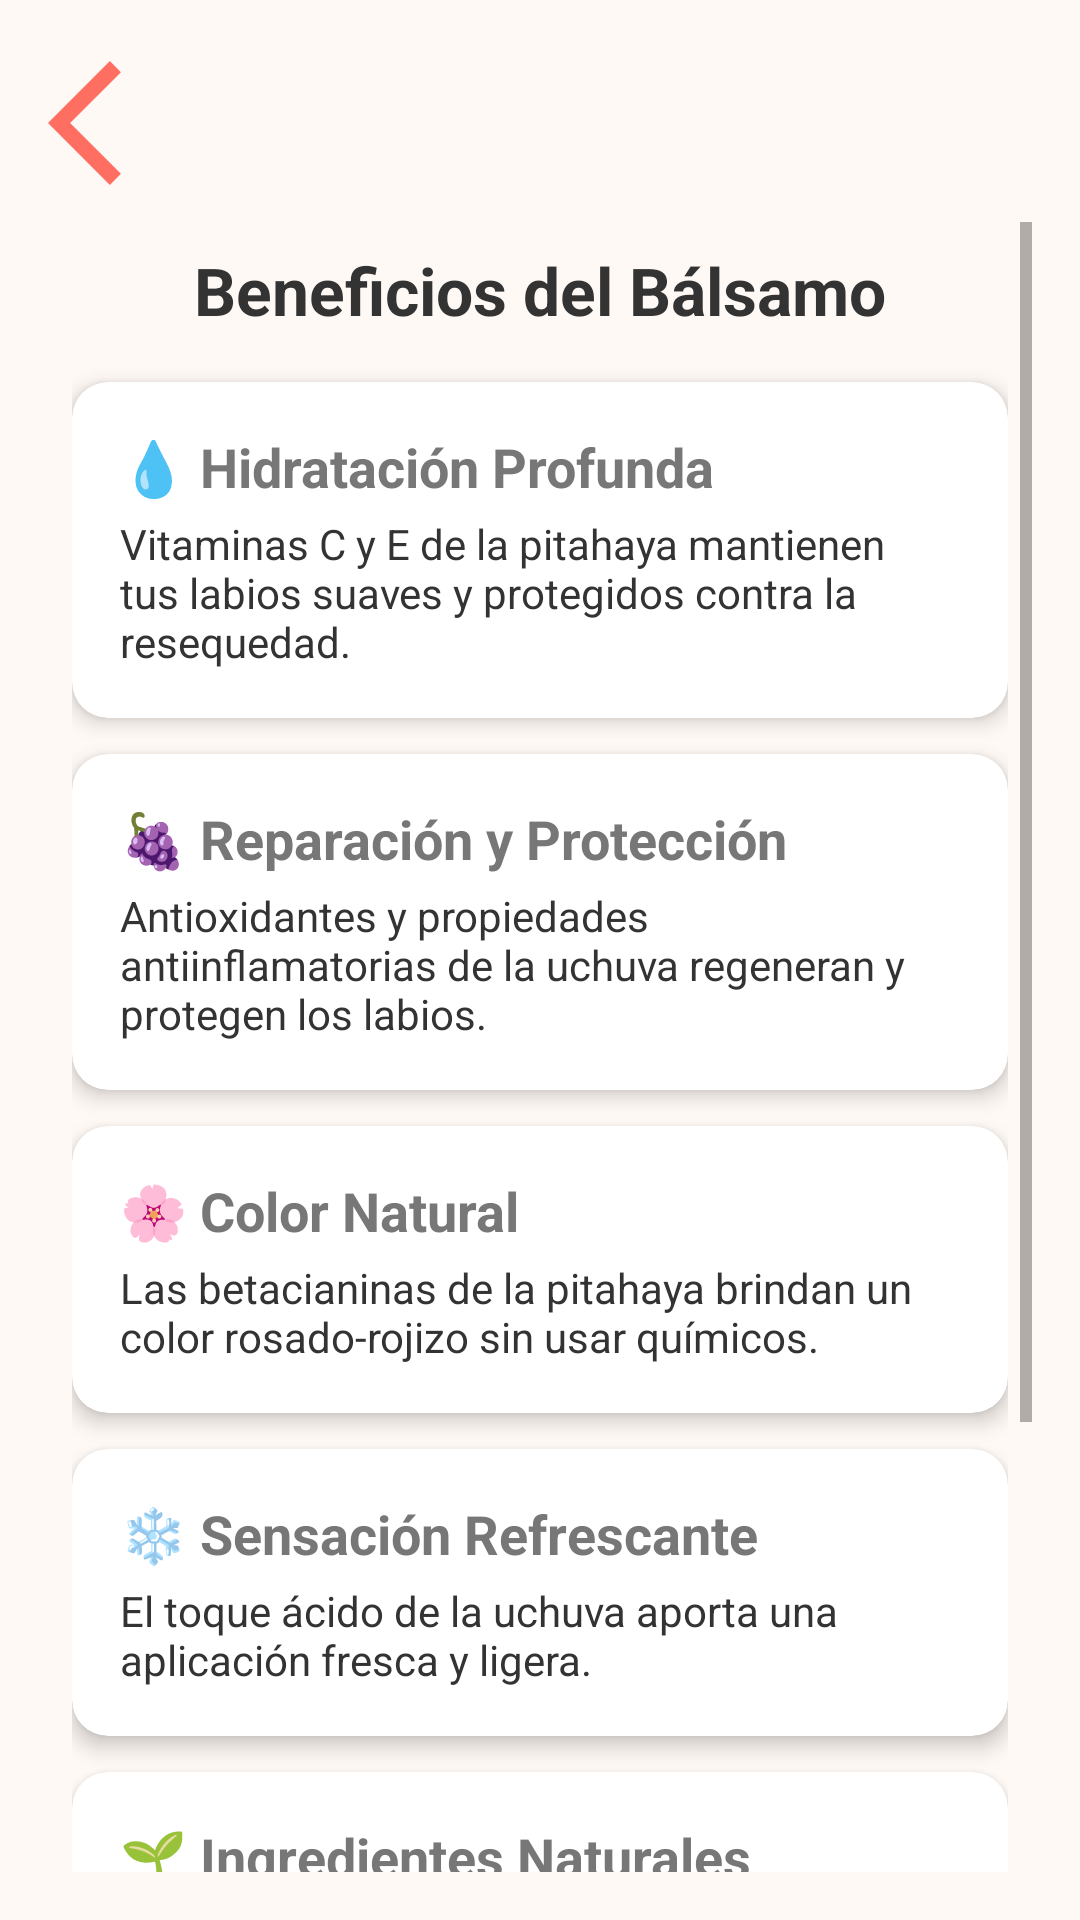

Named icons in this screenshot (1080 × 1920) and their centers, (x=x, y=y):
Botón atrás: (x=84, y=123)
